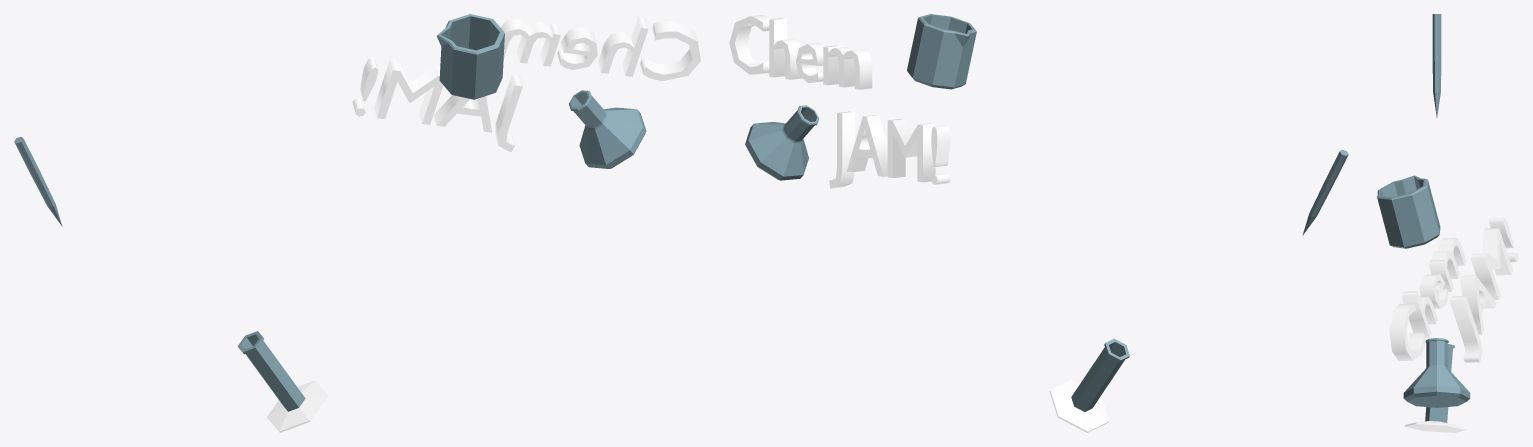
Rendered from ChemJam.glb.
3 renders of one model, left to right at view 1: azimuth 30°, elevation 25°; view 2: azimuth 150°, elevation 25°; view 3: azimuth 270°, elevation 25°, orthographic. The views are drawn at different scales.
Parts seen in each view (by area): view 1: Text, Cylinder, Cylinder.001, Cylinder.002, Cylinder.003; view 2: Text, Cylinder, Cylinder.001, Cylinder.002, Cylinder.003; view 3: Text, Cylinder, Cylinder.001, Cylinder.002, Cylinder.003.
Boxes of the visible parts, x1=… form: Text: x1=352, y1=17, x2=700, y2=151; Cylinder: x1=437, y1=14, x2=504, y2=99; Cylinder.001: x1=569, y1=90, x2=646, y2=168; Cylinder.002: x1=237, y1=331, x2=328, y2=432; Cylinder.003: x1=14, y1=136, x2=62, y2=226; Text: x1=729, y1=14, x2=950, y2=188; Cylinder: x1=907, y1=14, x2=976, y2=89; Cylinder.001: x1=745, y1=105, x2=819, y2=180; Cylinder.002: x1=1049, y1=338, x2=1129, y2=432; Cylinder.003: x1=1302, y1=149, x2=1348, y2=235; Text: x1=1389, y1=217, x2=1518, y2=362; Cylinder: x1=1377, y1=175, x2=1440, y2=248; Cylinder.001: x1=1403, y1=338, x2=1470, y2=407; Cylinder.002: x1=1405, y1=344, x2=1466, y2=432; Cylinder.003: x1=1432, y1=14, x2=1441, y2=117.
Bounding box in the file's own units: 10.19 × 5.44 × 2.13.
